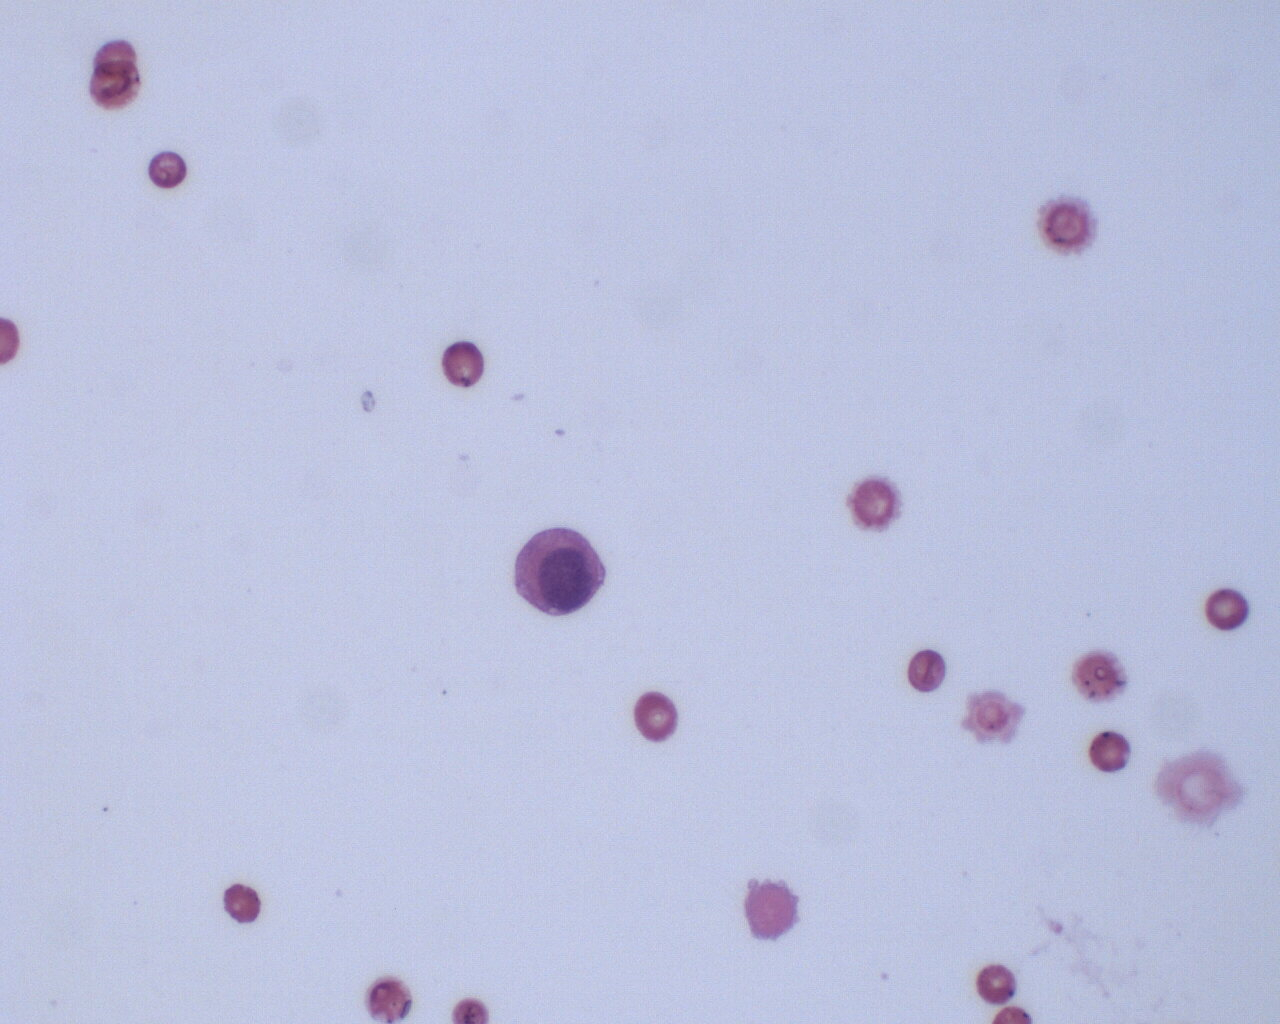meso: (505, 526, 610, 618)
